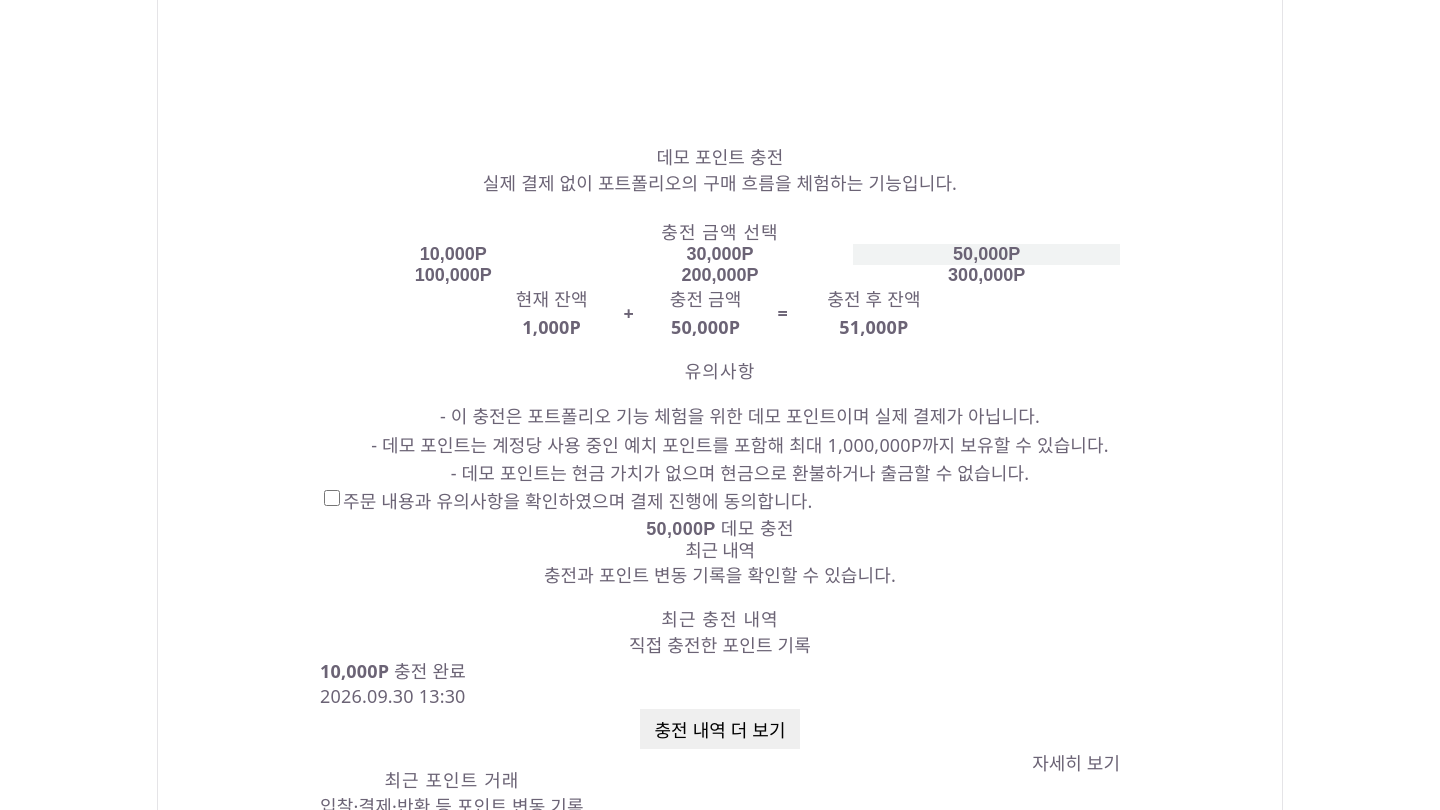
데모 포인트 충전 화면 › 충전 내역과 포인트 거래를 각각 다음 페이지로 누적 조회한다
Click the button "충전 내역 더 보기".
click(720, 729)  # box [640, 709, 800, 749]
(page scrolled)
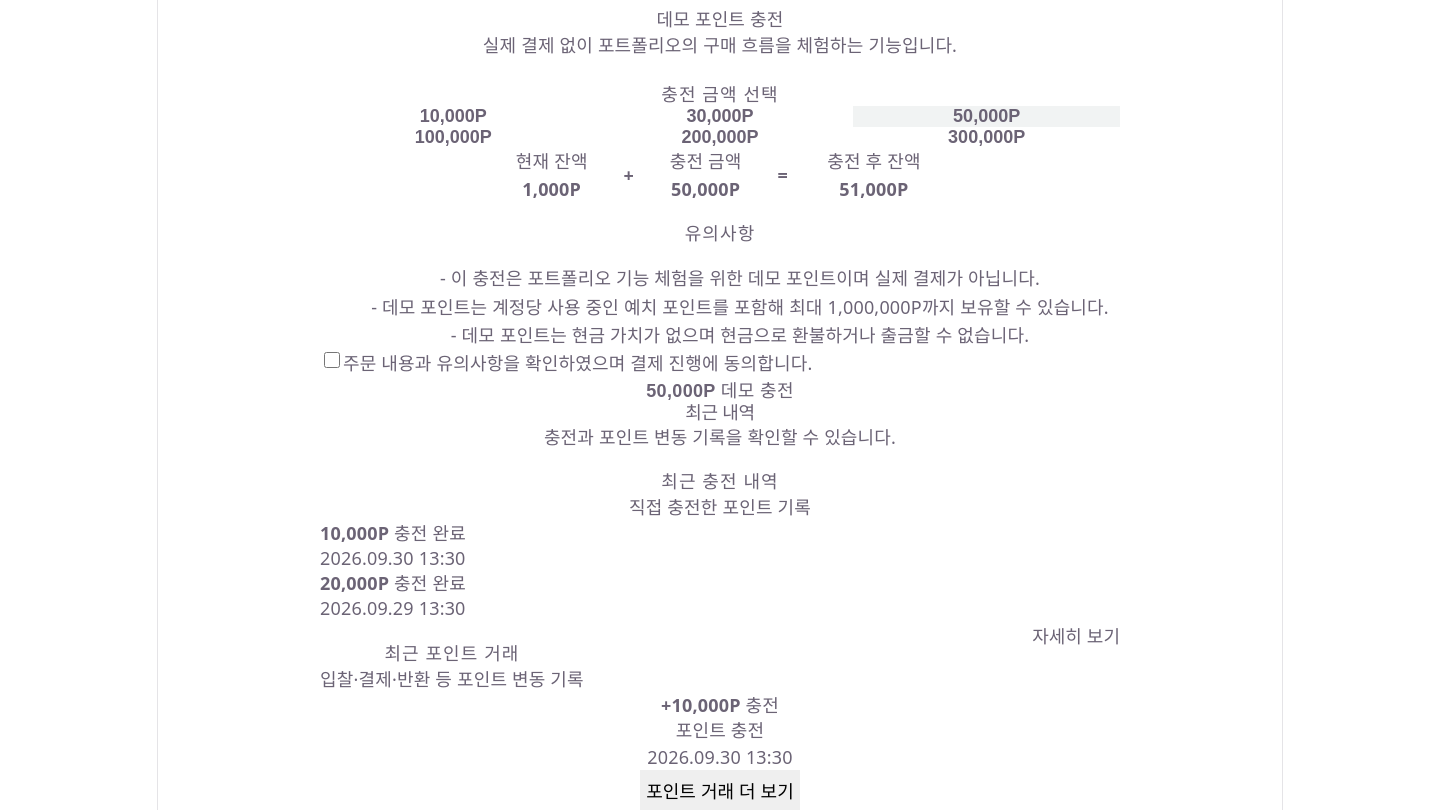
Result: the text "20,000P" is shown at [320, 571, 466, 596]
Click the button "포인트 거래 더 보기".
click(720, 790)  # box [640, 770, 800, 809]
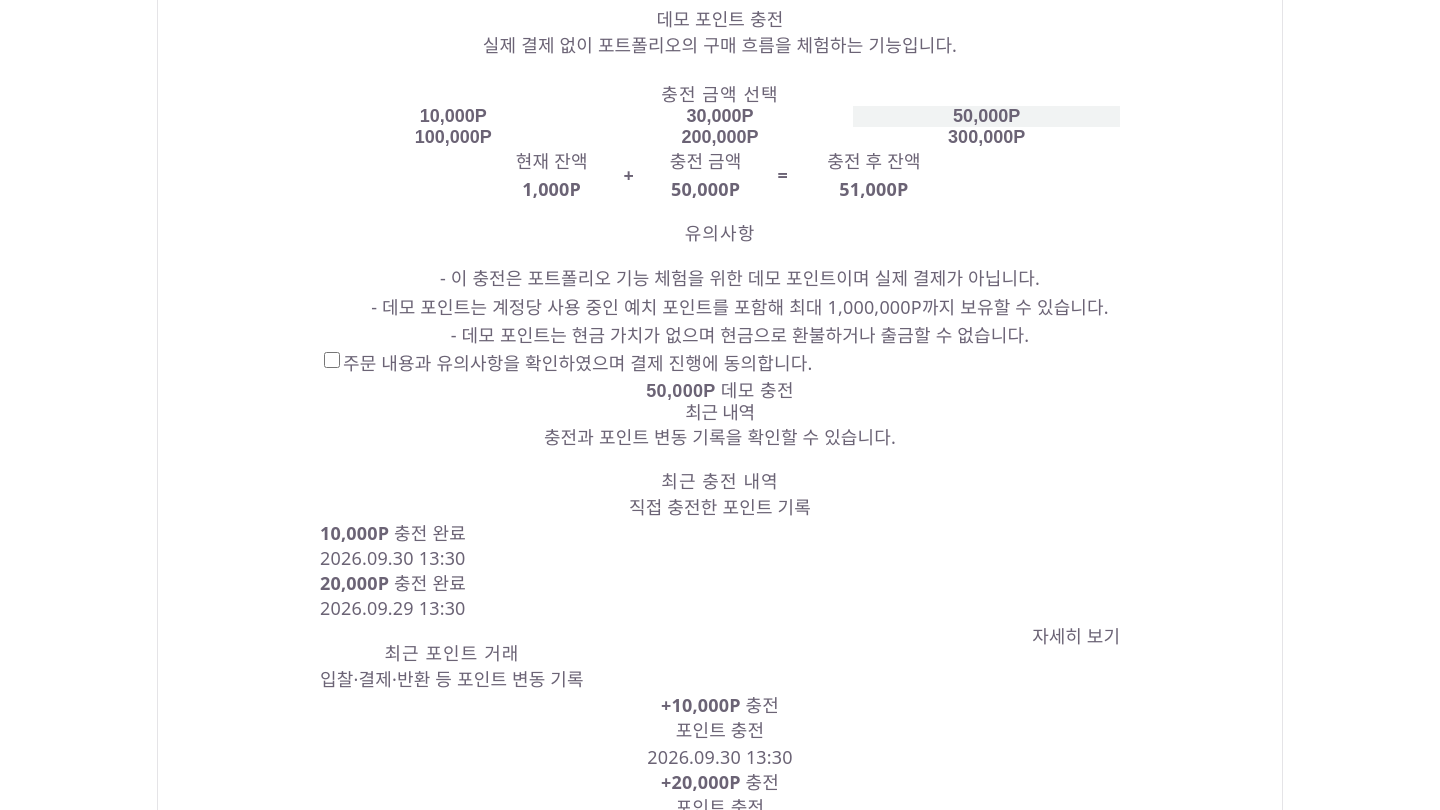
Expected: the button "충전 내역 더 보기" is not shown
Result: the text "+20,000P 충전" is shown at [661, 770, 779, 794]
Result: the button "포인트 거래 더 보기" is gone
